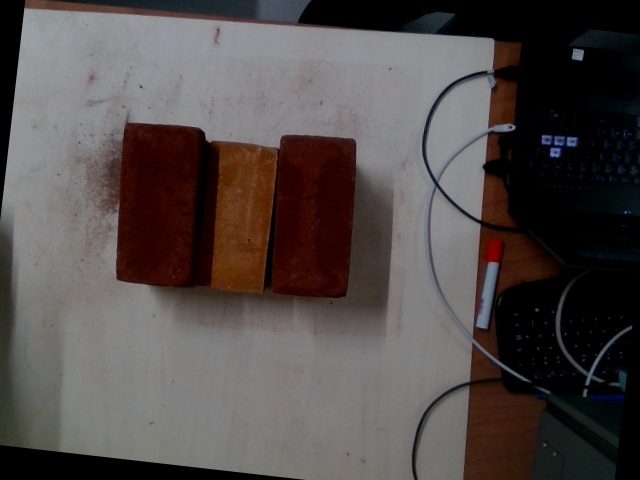brick: (272, 136, 356, 297), (113, 122, 196, 284), (193, 142, 278, 291)
